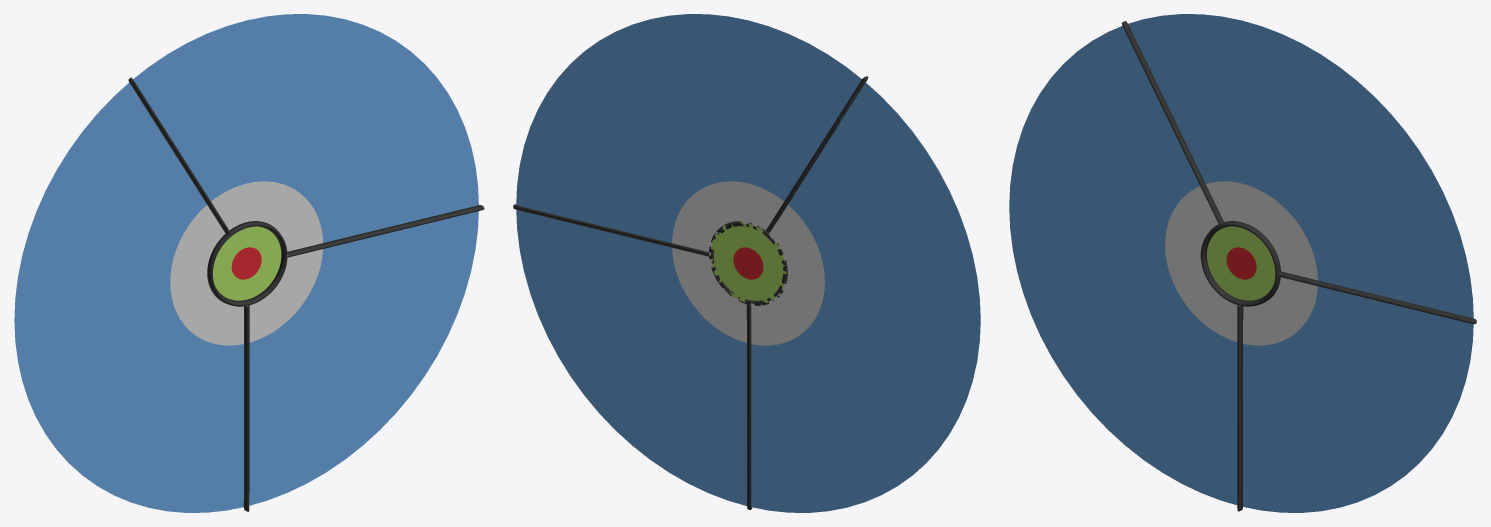
The model's file is Level_01Mesh (1).fbx.
3 views of the same model, side by side, from view 1: azimuth 30°, elevation 25°; view 2: azimuth 150°, elevation 25°; view 3: azimuth 330°, elevation 25° (orthographic).
Parts seen in each view (by area): view 1: L1_C, L1_A, L1_B, L1_C_2x, L1_DarkLine, L1_A_2x, L1_B_2x, L1_BullsEye_OR, L1_BullsEye; view 2: L1_C, L1_A, L1_B, L1_C_2x, L1_A_2x, L1_DarkLine, L1_BullsEye_OR, L1_B_2x, L1_BullsEye; view 3: L1_C, L1_A, L1_B, L1_C_2x, L1_DarkLine, L1_A_2x, L1_B_2x, L1_BullsEye_OR, L1_BullsEye.
Part boxes in pixels (bbox=[...]): L1_C: bbox=[14, 82, 243, 512]; L1_A: bbox=[133, 14, 478, 242]; L1_B: bbox=[249, 211, 478, 505]; L1_C_2x: bbox=[170, 205, 243, 345]; L1_DarkLine: bbox=[128, 77, 484, 511]; L1_A_2x: bbox=[211, 181, 322, 251]; L1_B_2x: bbox=[247, 249, 322, 342]; L1_BullsEye_OR: bbox=[213, 226, 281, 300]; L1_BullsEye: bbox=[231, 247, 261, 279]; L1_C: bbox=[751, 82, 980, 512]; L1_A: bbox=[516, 14, 861, 242]; L1_B: bbox=[516, 210, 746, 505]; L1_C_2x: bbox=[750, 205, 824, 345]; L1_A_2x: bbox=[672, 181, 783, 254]; L1_DarkLine: bbox=[513, 76, 868, 509]; L1_BullsEye_OR: bbox=[710, 222, 786, 302]; L1_B_2x: bbox=[672, 248, 746, 342]; L1_BullsEye: bbox=[733, 247, 763, 279]; L1_C: bbox=[1009, 26, 1237, 504]; L1_A: bbox=[1128, 14, 1473, 318]; L1_B: bbox=[1243, 286, 1473, 512]; L1_C_2x: bbox=[1165, 186, 1240, 341]; L1_DarkLine: bbox=[1121, 21, 1476, 511]; L1_A_2x: bbox=[1206, 181, 1317, 280]; L1_B_2x: bbox=[1243, 277, 1317, 345]; L1_BullsEye_OR: bbox=[1207, 226, 1275, 300]; L1_BullsEye: bbox=[1226, 247, 1256, 279].
Bounding box in the file's own units: 2.03 × 2.03 × 0.0201.
